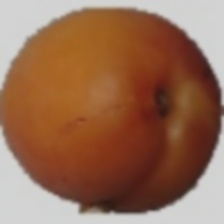apricot: (49, 25, 206, 224)
